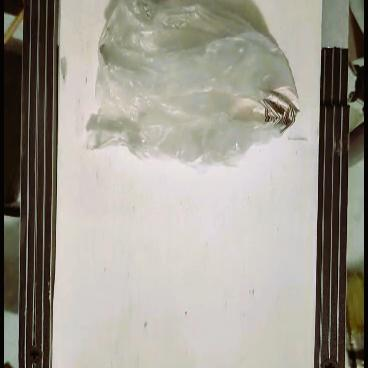Plastik: (85, 0, 299, 168)
